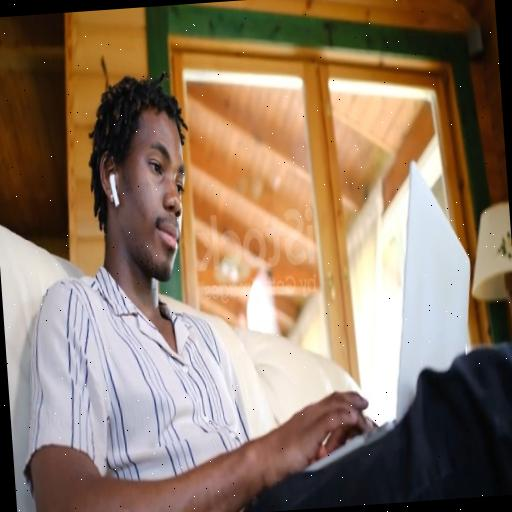earphone: (106, 168, 124, 218)
